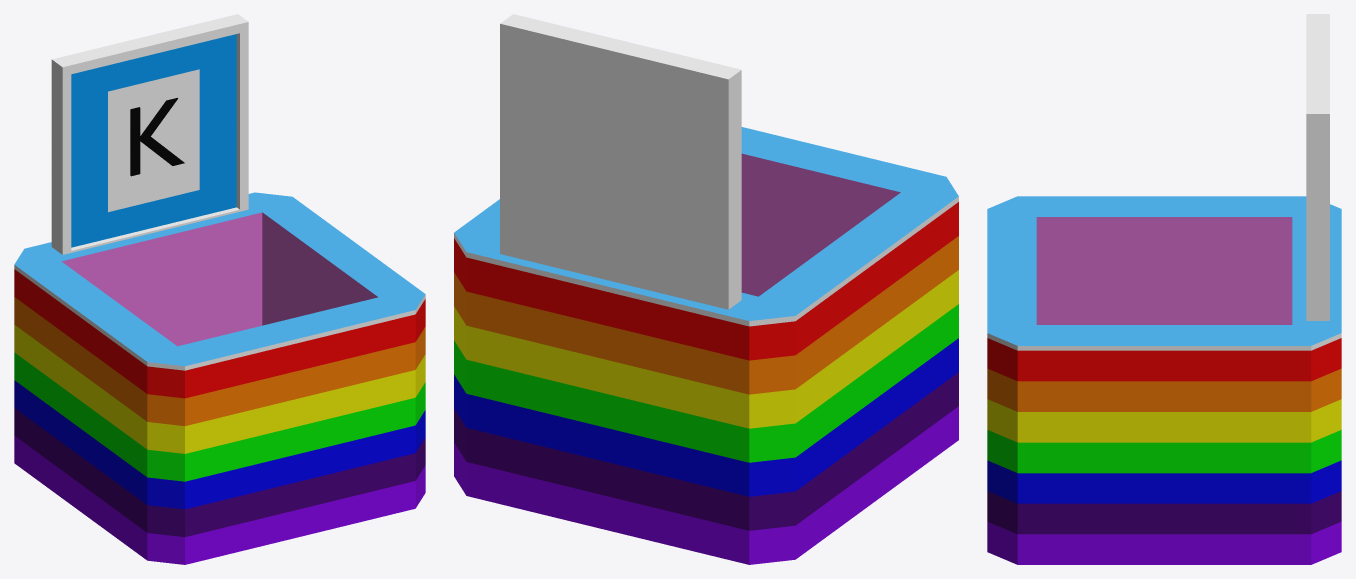
3 views of the same model, side by side, from view 1: azimuth 30°, elevation 25°; view 2: azimuth 150°, elevation 25°; view 3: azimuth 270°, elevation 25° (orthographic). The views are drawn at different scales.
Visible parts, largest first — view 1: Cube.001, Text; view 2: Cube.001; view 3: Cube.001.
Part boxes in pixels (x1,y1,x2,y2): Cube.001: (14,14,425,564); Text: (130,98,184,176); Cube.001: (454,14,958,564); Cube.001: (987,14,1341,564).
Size of the model in its own units: 383 by 508 by 383.
